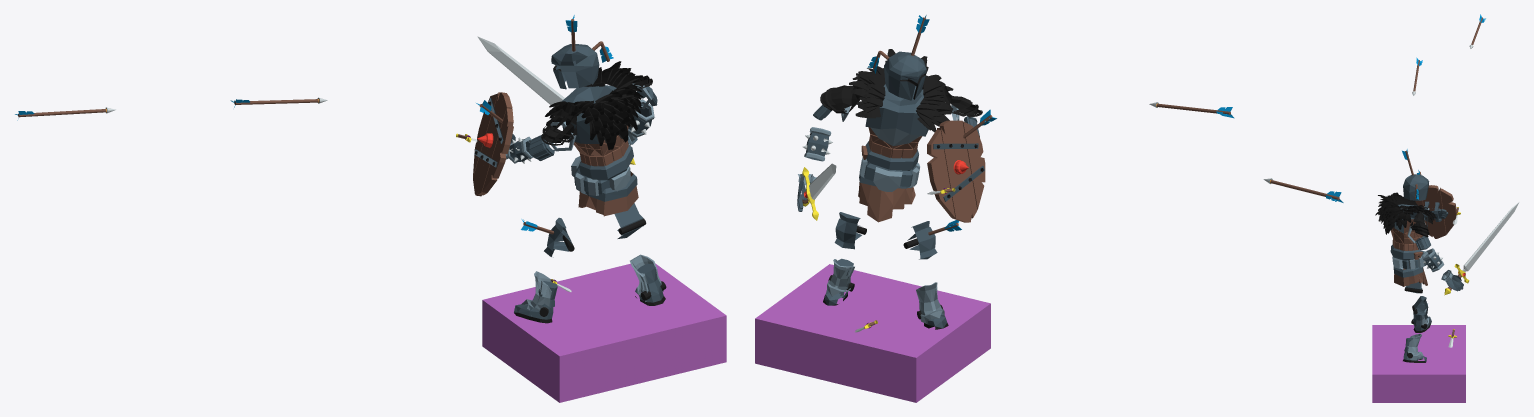
Rendered from arrow-knight-by-jakers-h-cSuA09FqbBd.glb.
3 views of the same model, side by side, from view 1: azimuth 30°, elevation 25°; view 2: azimuth 150°, elevation 25°; view 3: azimuth 270°, elevation 25° (orthographic). The views are drawn at different scales.
Parts seen in each view (by area): view 1: group1074620533, group668008492, group1283196990, group2090033305, group1689547984, group1660380486, group1898969587, group73374361, group1262278748, group1712071227, group1247295868, group1618302055 (+1 smaller); view 2: group1074620533, group1283196990, group2090033305, group668008492, group1689547984, group1660380486, group1247295868, group1898969587, group1262278748, group1748932108, group247332491, group1618302055 (+3 smaller); view 3: group1074620533, group1283196990, group668008492, group2090033305, group1689547984, group73374361, group1660380486, group1262278748, group1748932108, group1357015251, group1247295868, group1898969587 (+4 smaller).
Part boxes in pixels (x1,y1,x2,y2): group1074620533: (482,263,726,402); group668008492: (545,61,643,149); group1283196990: (456,92,533,196); group2090033305: (561,85,633,180); group1689547984: (551,15,613,89); group1660380486: (578,171,638,216); group1898969587: (514,271,557,323); group73374361: (477,36,635,164); group1262278748: (630,254,666,305); group1712071227: (541,103,578,151); group1247295868: (571,156,630,195); group1618302055: (544,217,574,257); group1074620533: (755,264,990,402); group1283196990: (927,109,996,222); group2090033305: (861,84,928,170); group668008492: (849,49,957,132); group1689547984: (867,15,929,100); group1660380486: (858,173,915,222); group1247295868: (859,157,919,191); group1898969587: (916,282,948,329); group1262278748: (823,258,854,305); group1748932108: (820,85,860,121); group247332491: (834,212,866,249); group1618302055: (903,221,937,259); group1074620533: (1372,325,1465,402); group1283196990: (1415,170,1460,238); group668008492: (1375,194,1436,234); group2090033305: (1390,204,1427,260); group1689547984: (1402,149,1429,200); group73374361: (1444,202,1519,295); group1660380486: (1393,266,1427,286); group1262278748: (1403,333,1426,362); group1748932108: (1407,212,1429,243); group1357015251: (1421,248,1444,271); group1247295868: (1392,250,1426,269); group1898969587: (1411,303,1431,332).
Size of the model in its own units: 1.12 by 0.6112 by 0.377.
